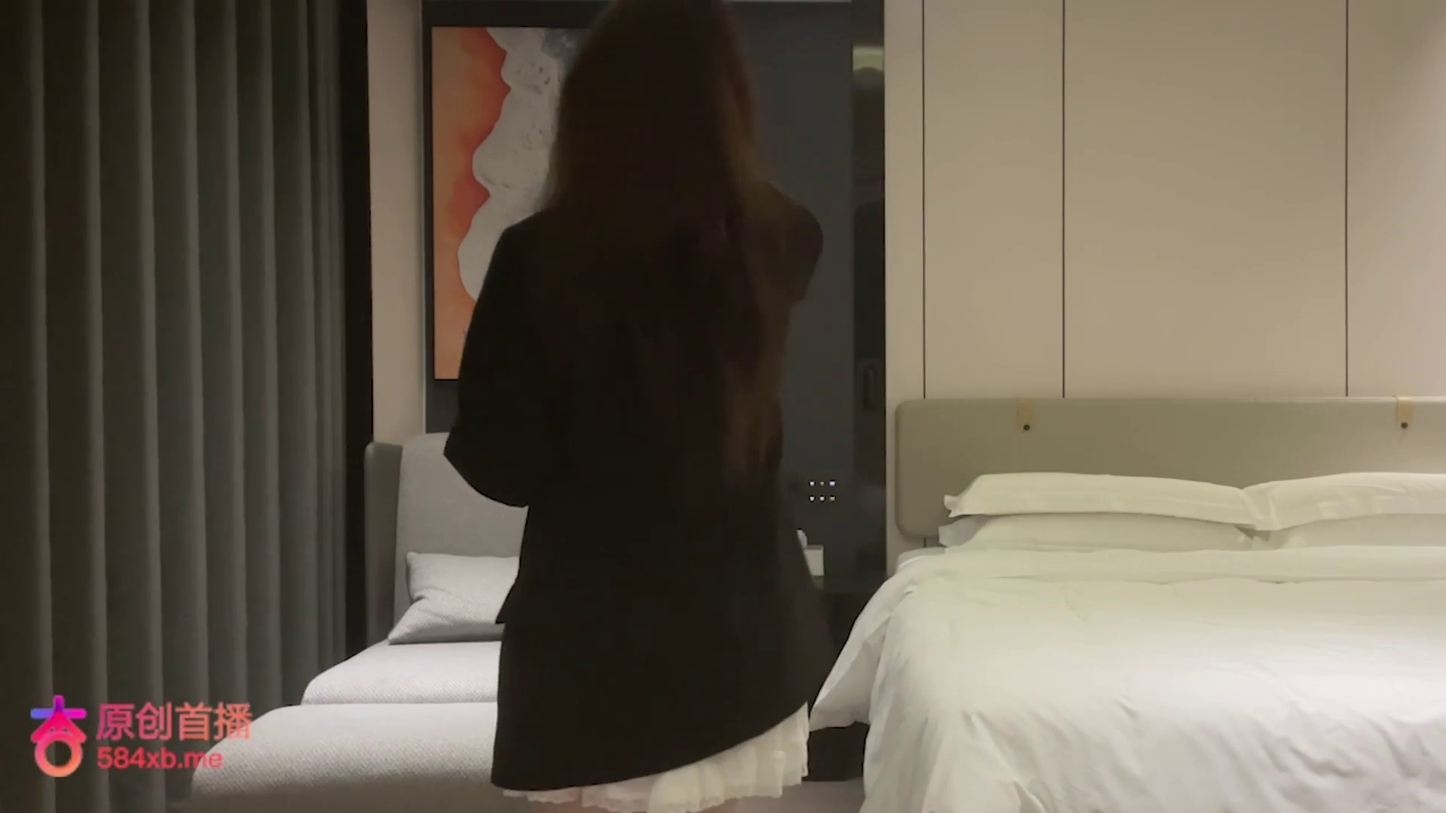stand: (443, 2, 839, 805)
